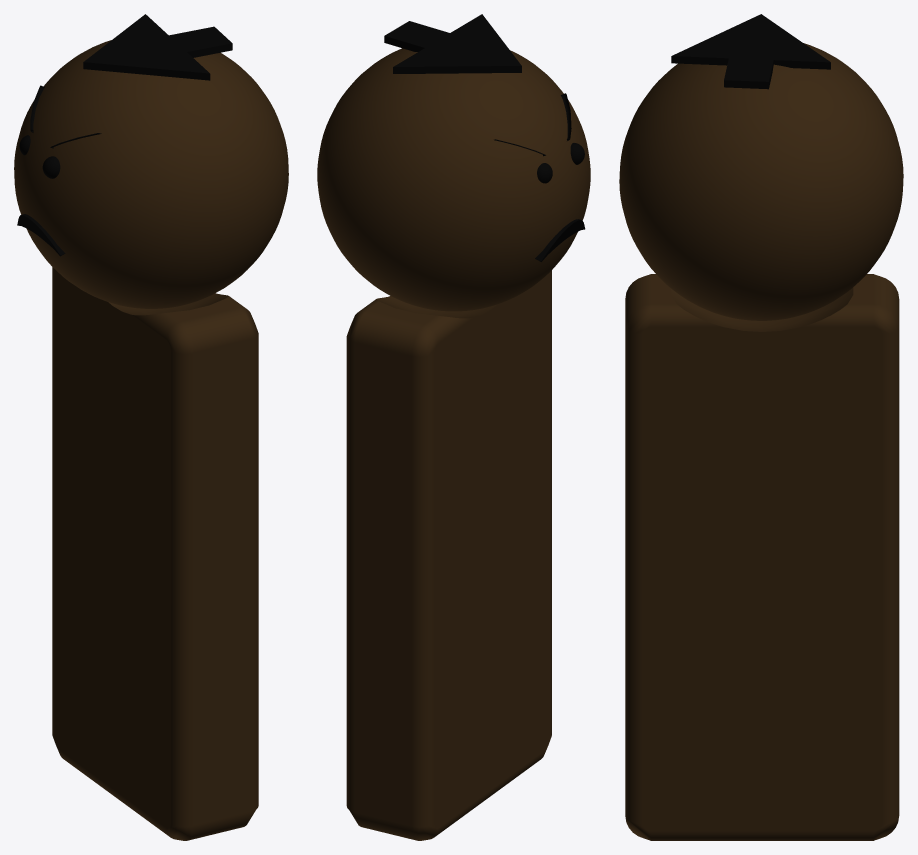
The model's file is brown_angry.obj.
The picture shows the model from 3 angles, left to right: view 1: azimuth 30°, elevation 25°; view 2: azimuth 150°, elevation 25°; view 3: azimuth 270°, elevation 25°; orthographic projection. The views are drawn at different scales.
Parts seen in each view (by area): view 1: 1_Curve.002_Curve.003, 5.002_Curve.002_Curve.003_5.002_Curve.002_Curve.003; view 2: 1_Curve.002_Curve.003, 5.002_Curve.002_Curve.003_5.002_Curve.002_Curve.003; view 3: 1_Curve.002_Curve.003, 5.002_Curve.002_Curve.003_5.002_Curve.002_Curve.003.
Boxes of the visible parts, <box> form: 1_Curve.002_Curve.003: <box>14,40,288,840</box>; 5.002_Curve.002_Curve.003_5.002_Curve.002_Curve.003: <box>17,14,232,256</box>; 1_Curve.002_Curve.003: <box>317,48,590,840</box>; 5.002_Curve.002_Curve.003_5.002_Curve.002_Curve.003: <box>384,14,585,261</box>; 1_Curve.002_Curve.003: <box>619,43,903,840</box>; 5.002_Curve.002_Curve.003_5.002_Curve.002_Curve.003: <box>671,14,830,89</box>.
Bounding box in the file's own units: 0.1677 × 0.4993 × 0.1661.
